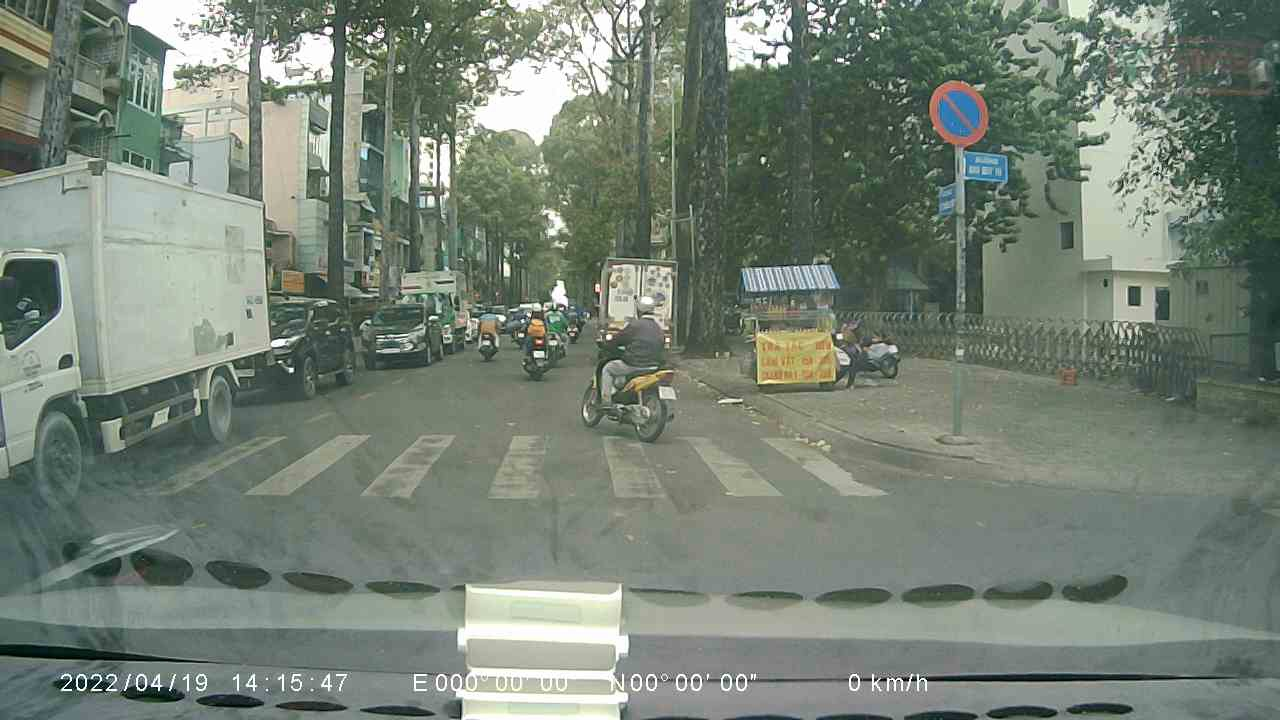Cam do xe: (925, 75, 993, 151)
